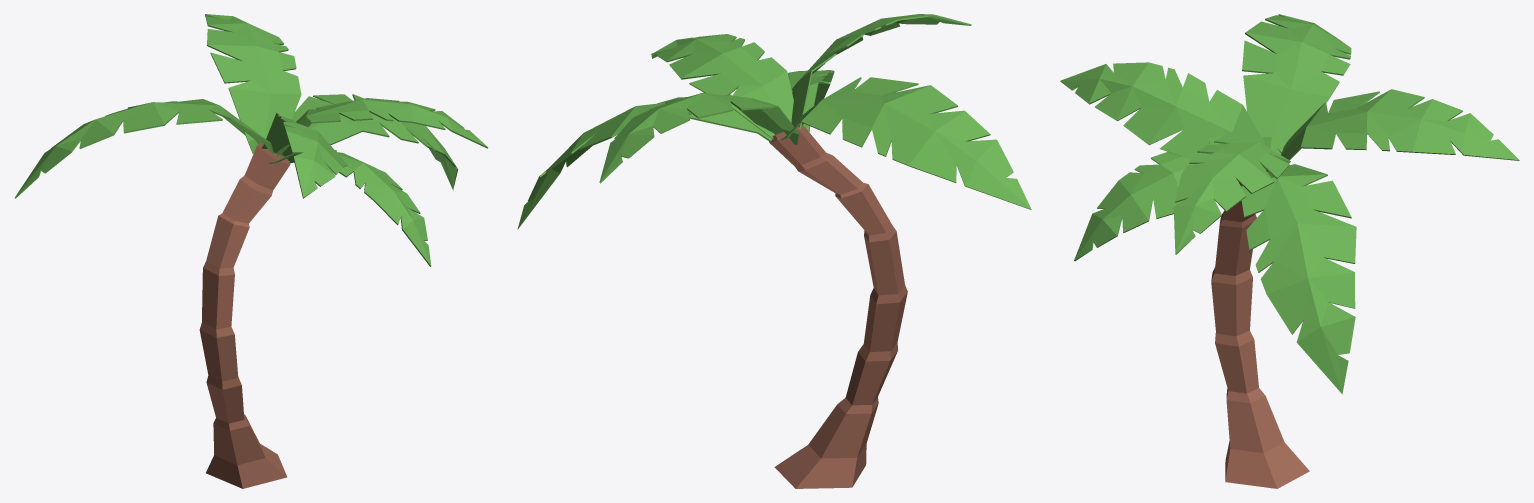
The model's file is PalmTree.fbx.
The picture shows the model from 3 angles, left to right: view 1: azimuth 30°, elevation 25°; view 2: azimuth 150°, elevation 25°; view 3: azimuth 270°, elevation 25°; orthographic projection. The views are drawn at different scales.
Parts seen in each view (by area): view 1: Plane.002; view 2: Plane.002; view 3: Plane.002.
Boxes of the visible parts, x1=… form: Plane.002: x1=14, y1=14, x2=488, y2=488; Plane.002: x1=517, y1=14, x2=1031, y2=488; Plane.002: x1=1060, y1=14, x2=1519, y2=488.
Size of the model in its own units: 9.64 by 7.73 by 8.03.
